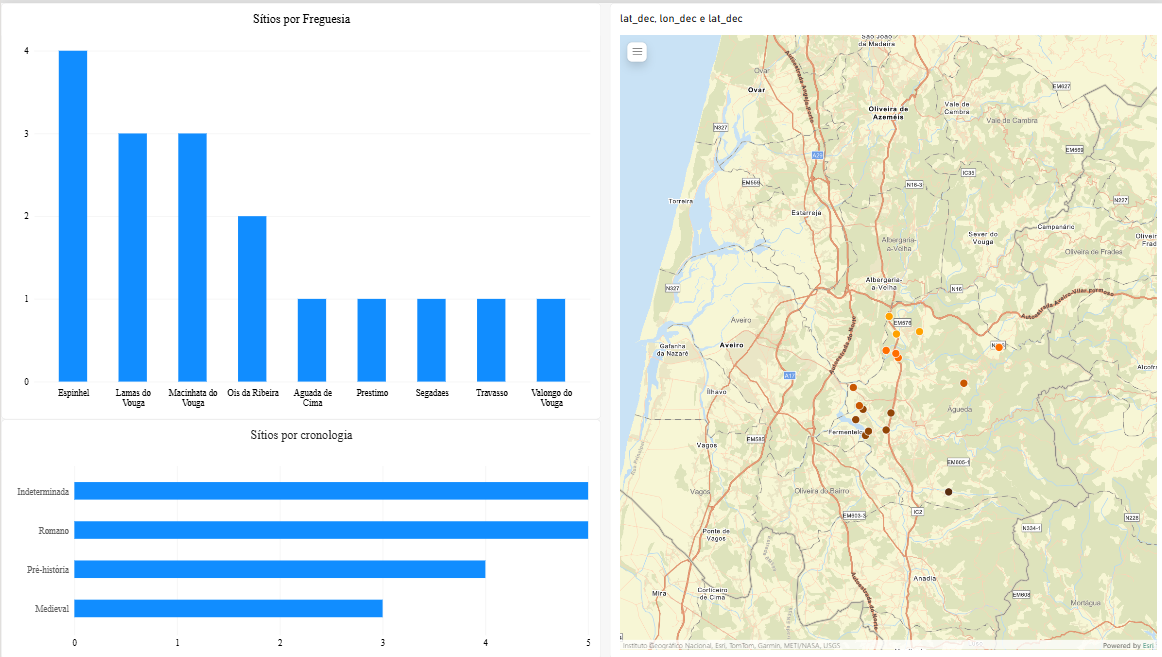

The dashboard page shown, as its layout file describes it:
{"tool":"powerbi","page":{"name":"Página 1","canvas":[1920,1080],"ordinal":0},"visuals":[{"type":"clusteredColumnChart","title":"Sítios por Freguesia","fields":{"Category":["public v_sitios_por_freguesia.freguesia"],"Y":["Sum(public v_sitios_por_freguesia.total)"]},"box":[0,0,988,685.4],"z":0},{"type":"barChart","title":"Sítios por cronologia","fields":{"Category":["public v_sitios_por_periodo.periodo"],"Y":["Sum(public v_sitios_por_periodo.total)"]},"box":[0,685.4,988,395.2],"z":1000},{"type":"esriVisual","fields":{"Color":["public v_mapa_sitios.lat_dec"],"Latitude":["public v_mapa_sitios.lat_dec"],"Longitude":["public v_mapa_sitios.lon_dec"]},"box":[1002.4,0,918,1080.6],"z":1001}]}

Visuals, with their boxes in screenshot pixels (x1, y1, x2, y2), scaled from the page's 1920x1080 canvas onto the 1162x657 screenshot:
"Sítios por Freguesia" clusteredColumnChart: bbox(0, 0, 598, 417)
"Sítios por cronologia" barChart: bbox(0, 417, 598, 656)
esriVisual - public v_mapa_sitios.lat_dec x public v_mapa_sitios.lat_dec: bbox(607, 0, 1161, 656)
